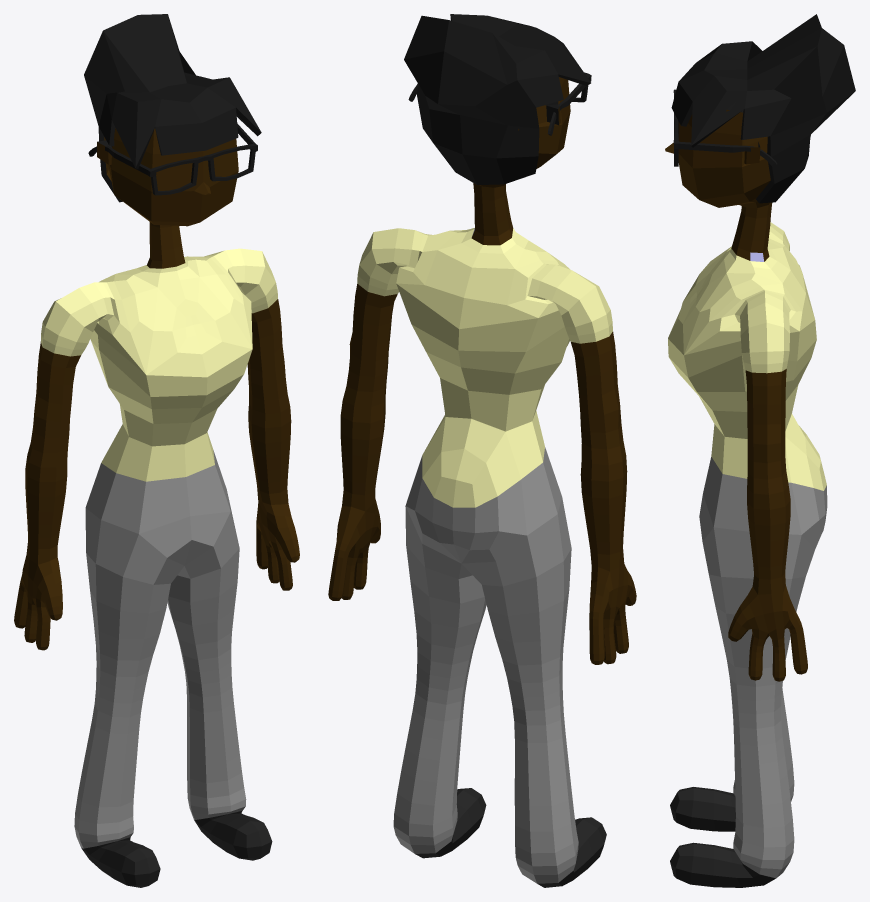
Rendered from npc7.fbx.
3 views of the same model, side by side, from view 1: azimuth 30°, elevation 25°; view 2: azimuth 150°, elevation 25°; view 3: azimuth 270°, elevation 25° (orthographic). The views are drawn at different scales.
Visible parts, largest first — view 1: npc3; view 2: npc3; view 3: npc3.
Part boxes in pixels (bbox=[...]): npc3: bbox=[14, 14, 299, 887]; npc3: bbox=[328, 14, 636, 887]; npc3: bbox=[665, 14, 855, 887].
Bounding box in the file's own units: 108 × 323 × 67.
